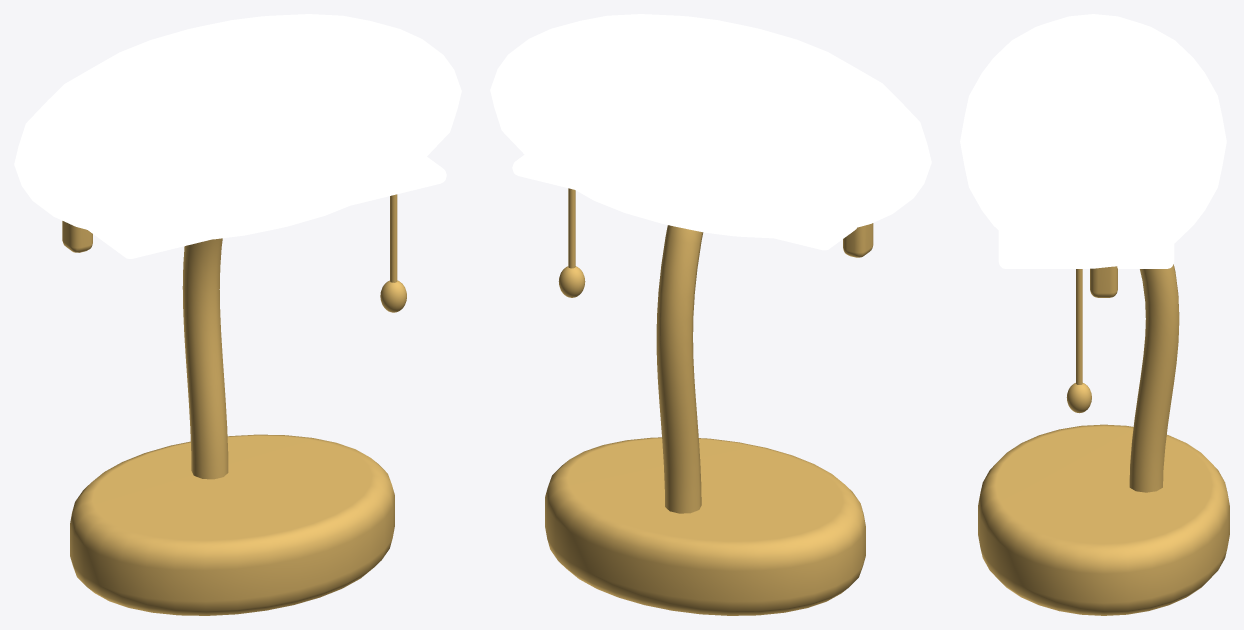
File: lampTableBanker.glb
The picture shows the model from 3 angles, left to right: view 1: azimuth 30°, elevation 25°; view 2: azimuth 150°, elevation 25°; view 3: azimuth 270°, elevation 25°; orthographic projection. The views are drawn at different scales.
Parts seen in each view (by area): view 1: Green glass shade, Desk lamp oval base, Banker lamp stem, Glass shade lit underside, Shade brass bracket, Lamp pull chain, Pull chain bead; view 2: Green glass shade, Desk lamp oval base, Banker lamp stem, Glass shade lit underside, Shade brass bracket, Pull chain bead, Lamp pull chain; view 3: Green glass shade, Desk lamp oval base, Banker lamp stem, Glass shade lit underside, Shade brass bracket.001, Lamp pull chain, Pull chain bead.
Boxes of the visible parts, left/top/right/bottom form: Green glass shade: left=14, top=14, right=461, bottom=239; Desk lamp oval base: left=70, top=434, right=394, bottom=615; Banker lamp stem: left=182, top=238, right=228, bottom=479; Glass shade lit underside: left=88, top=157, right=446, bottom=258; Shade brass bracket: left=62, top=221, right=92, bottom=252; Lamp pull chain: left=390, top=194, right=397, bottom=282; Pull chain bead: left=380, top=280, right=406, bottom=312; Green glass shade: left=490, top=14, right=931, bottom=238; Desk lamp oval base: left=545, top=437, right=865, bottom=615; Banker lamp stem: left=656, top=225, right=703, bottom=513; Glass shade lit underside: left=512, top=154, right=856, bottom=250; Shade brass bracket: left=843, top=223, right=873, bottom=257; Pull chain bead: left=558, top=266, right=585, bottom=297; Lamp pull chain: left=568, top=188, right=575, bottom=268; Green glass shade: left=960, top=14, right=1226, bottom=268; Desk lamp oval base: left=978, top=424, right=1229, bottom=615; Banker lamp stem: left=1129, top=264, right=1179, bottom=492; Glass shade lit underside: left=998, top=231, right=1174, bottom=268; Shade brass bracket.001: left=1090, top=266, right=1117, bottom=297; Lamp pull chain: left=1076, top=269, right=1082, bottom=384; Pull chain bead: left=1066, top=383, right=1091, bottom=413.
Size of the model in its own units: 0.66 by 0.78 by 0.3844.
